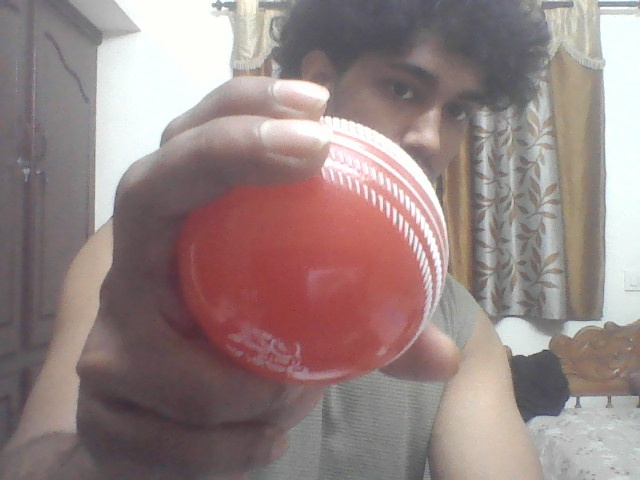cricket_ball: (167, 115, 455, 393)
